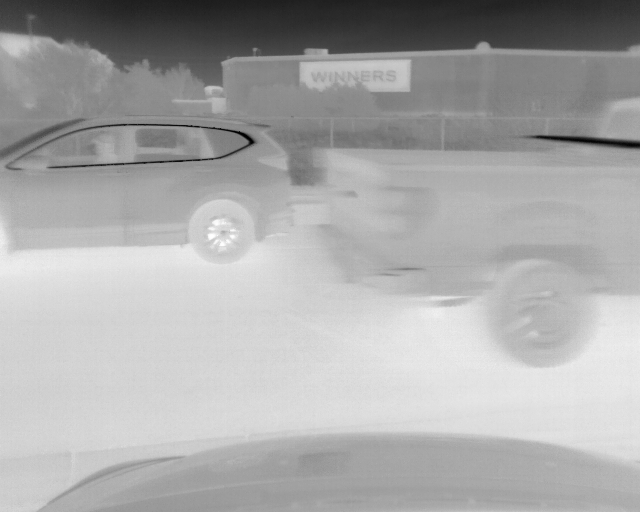car: (315, 94, 640, 368), (1, 115, 296, 260)
